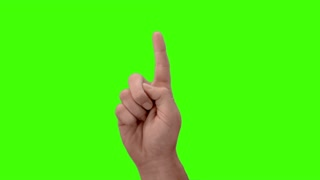move: (115, 32, 181, 156)
